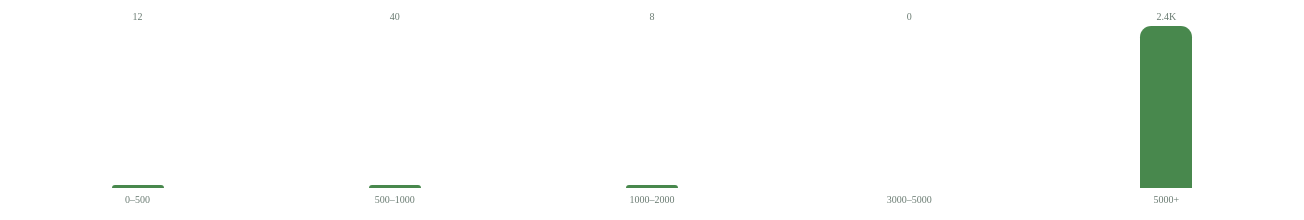
Test: BarChart (V6 audit S5/S7/S8) › S7: the tooltip flips at the edges and centres in between
Focus the button "12" at [138, 100], box [12, 12, 263, 188]
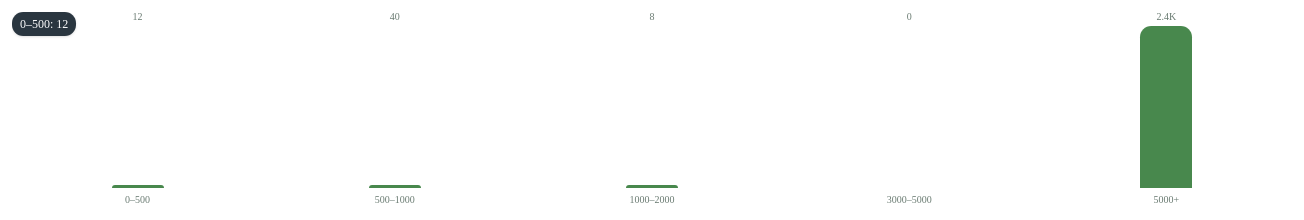
Focus the button "2.4K" at [1166, 100], box [1041, 12, 1292, 188]
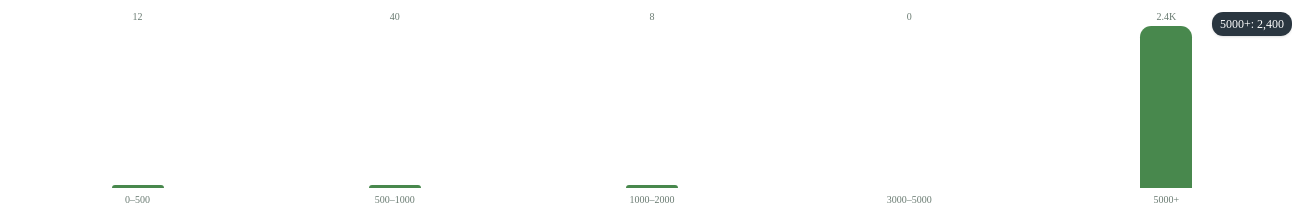
Result: the text "5000+: 2,400" has class "end-0" at [1212, 12, 1292, 36]
Focus the button "8" at [652, 100], box [526, 12, 778, 188]
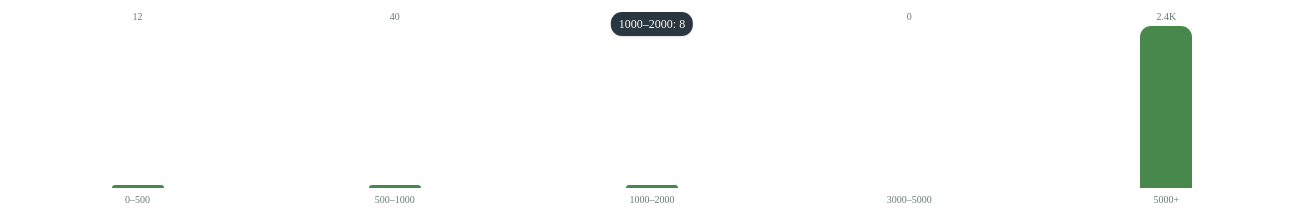
Result: the text "1000–2000: 8" has class "-translate-x-1/2" at [611, 12, 693, 36]
